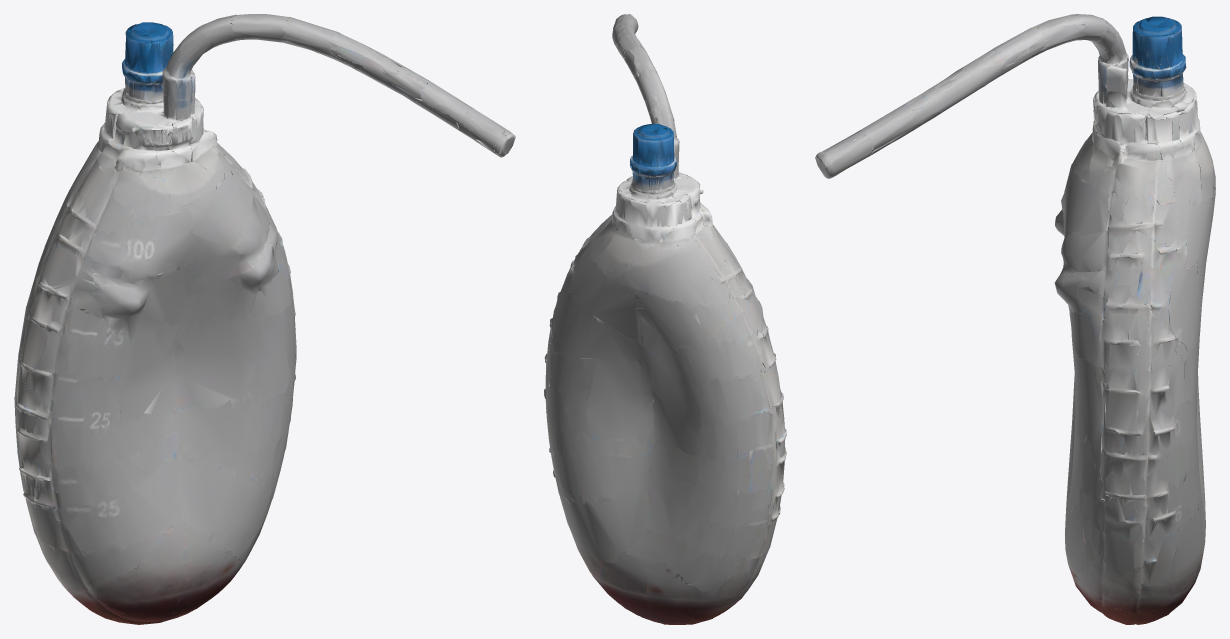
3 views of the same model, side by side, from view 1: azimuth 30°, elevation 25°; view 2: azimuth 150°, elevation 25°; view 3: azimuth 270°, elevation 25° (orthographic). The views are drawn at different scales.
Visible parts, largest first — view 1: Mesh_0; view 2: Mesh_0; view 3: Mesh_0.
Boxes of the visible parts, x1,y1,x2,y2 form: Mesh_0: (14,14,515,624); Mesh_0: (544,14,786,624); Mesh_0: (815,14,1215,624).
Size of the model in its own units: 1.13 by 1.9 by 1.1.
Materials: 1 (1 with a texture image).
